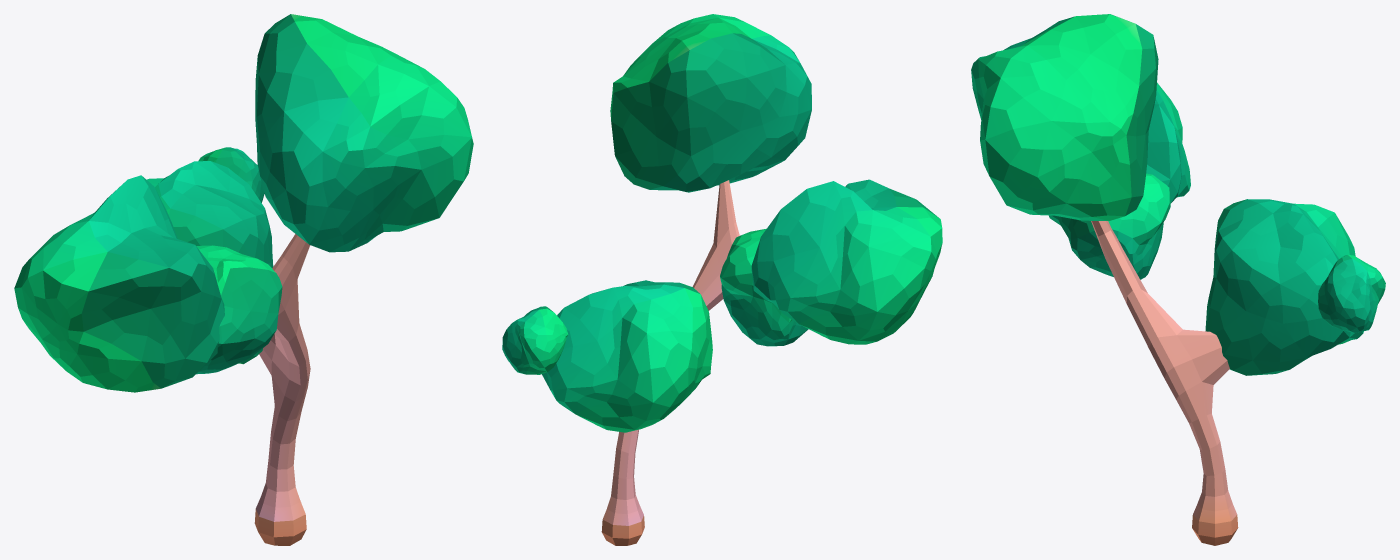
The model's file is Tree2.fbx.
The picture shows the model from 3 angles, left to right: view 1: azimuth 30°, elevation 25°; view 2: azimuth 150°, elevation 25°; view 3: azimuth 270°, elevation 25°; orthographic projection. The views are drawn at different scales.
Visible parts, largest first — view 1: Icosphere.010, Icosphere.009, Cube.001, Icosphere.008, Icosphere.011, Icosphere.007; view 2: Icosphere.010, Icosphere.009, Icosphere.008, Cube.001, Icosphere.011, Icosphere.007; view 3: Icosphere.010, Icosphere.008, Cube.001, Icosphere.011, Icosphere.007, Icosphere.009.
Boxes of the visible parts, x1=… form: Icosphere.010: x1=255, y1=14, x2=473, y2=252; Icosphere.009: x1=14, y1=175, x2=224, y2=392; Cube.001: x1=254, y1=234, x2=310, y2=545; Icosphere.008: x1=147, y1=161, x2=273, y2=364; Icosphere.011: x1=196, y1=245, x2=282, y2=374; Icosphere.007: x1=198, y1=147, x2=264, y2=202; Icosphere.010: x1=610, y1=14, x2=811, y2=192; Icosphere.009: x1=751, y1=179, x2=942, y2=344; Icosphere.008: x1=542, y1=280, x2=712, y2=432; Cube.001: x1=601, y1=180, x2=739, y2=545; Icosphere.011: x1=720, y1=228, x2=808, y2=346; Icosphere.007: x1=502, y1=306, x2=568, y2=374; Icosphere.010: x1=971, y1=14, x2=1158, y2=220; Icosphere.008: x1=1205, y1=199, x2=1363, y2=375; Cube.001: x1=1091, y1=221, x2=1238, y2=545; Icosphere.011: x1=1057, y1=173, x2=1170, y2=279; Icosphere.007: x1=1318, y1=254, x2=1385, y2=332; Icosphere.009: x1=1049, y1=82, x2=1190, y2=225.
Bounding box in the file's own units: 832 × 1165 × 860.
1 material, 1 textured.
